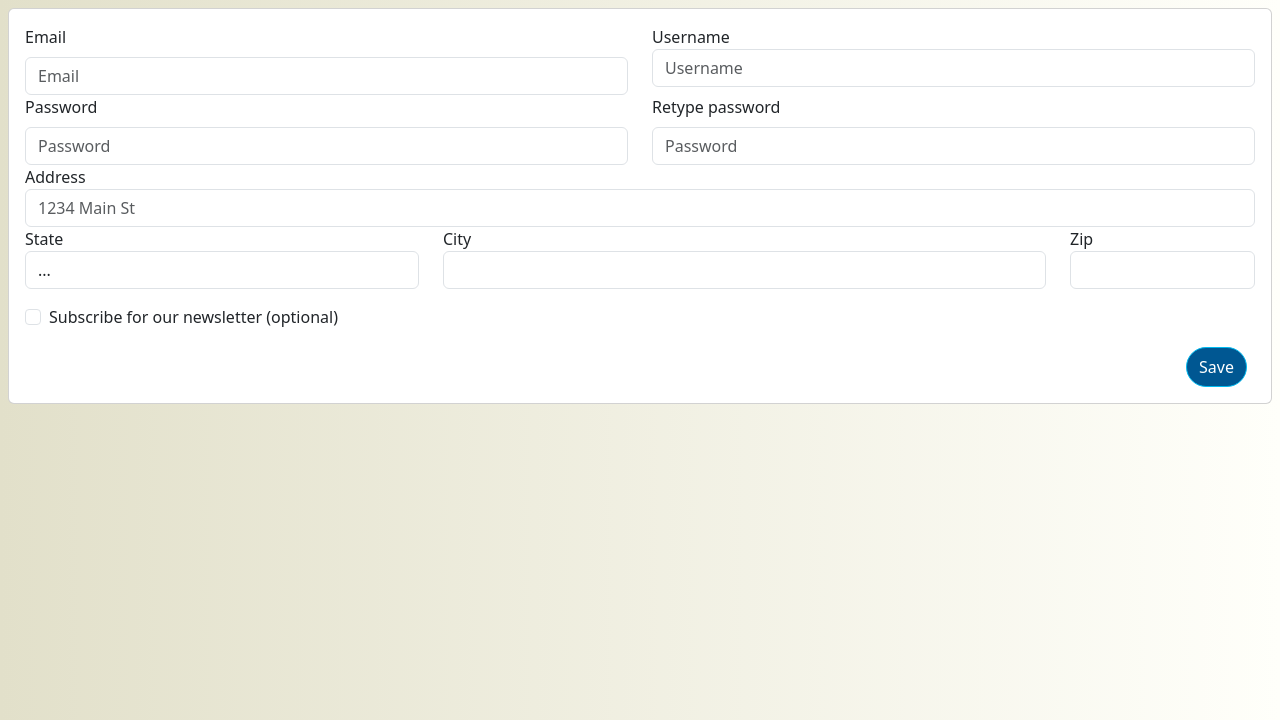
Test: User form tests › should give an error if email is invalid
Type "invalid_email" into the field with test id "email". click: (326, 76)
box: [25, 57, 628, 95]
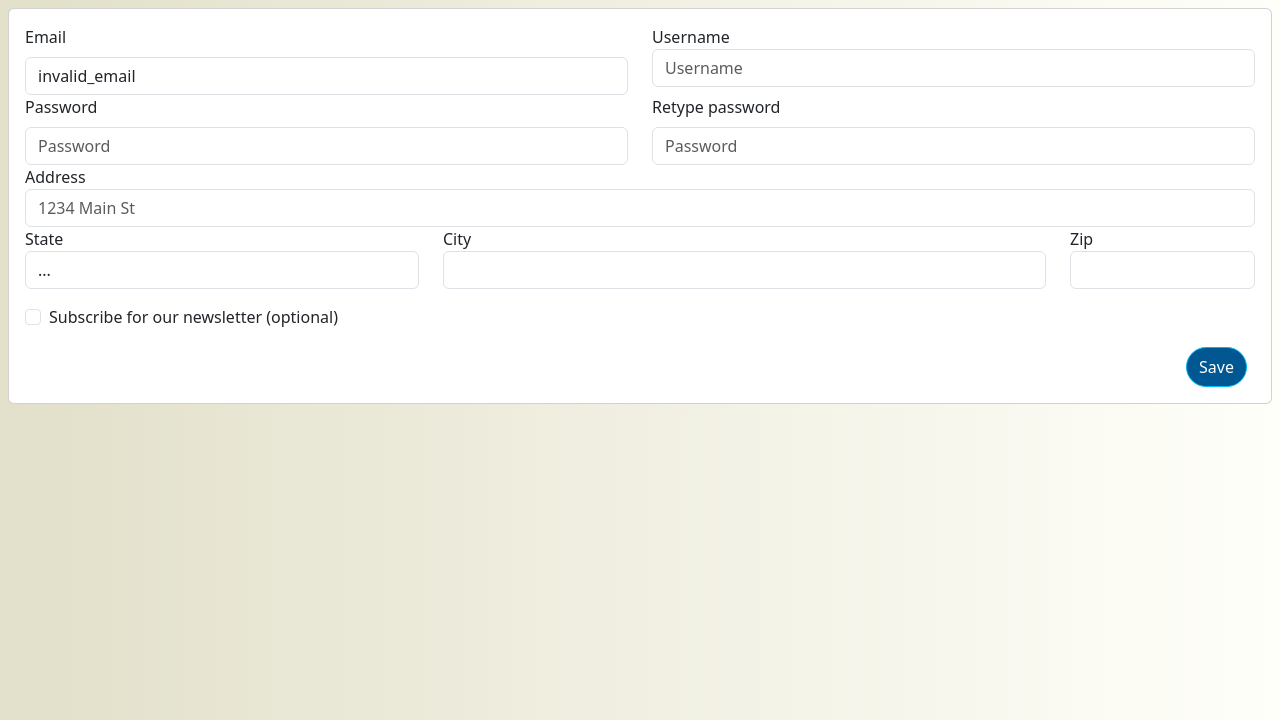
Leave the field with test id "email", box [25, 57, 628, 95]
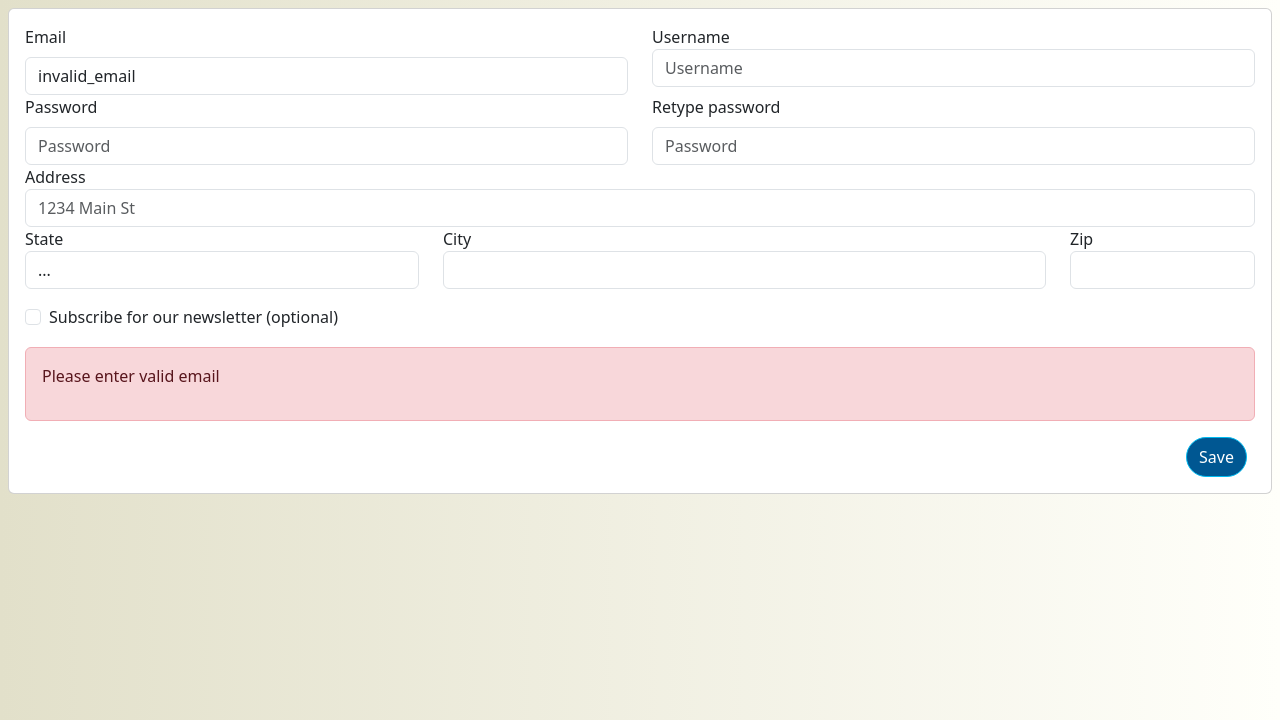
Check: the text "Please enter valid email" is shown, box [42, 365, 220, 387]
